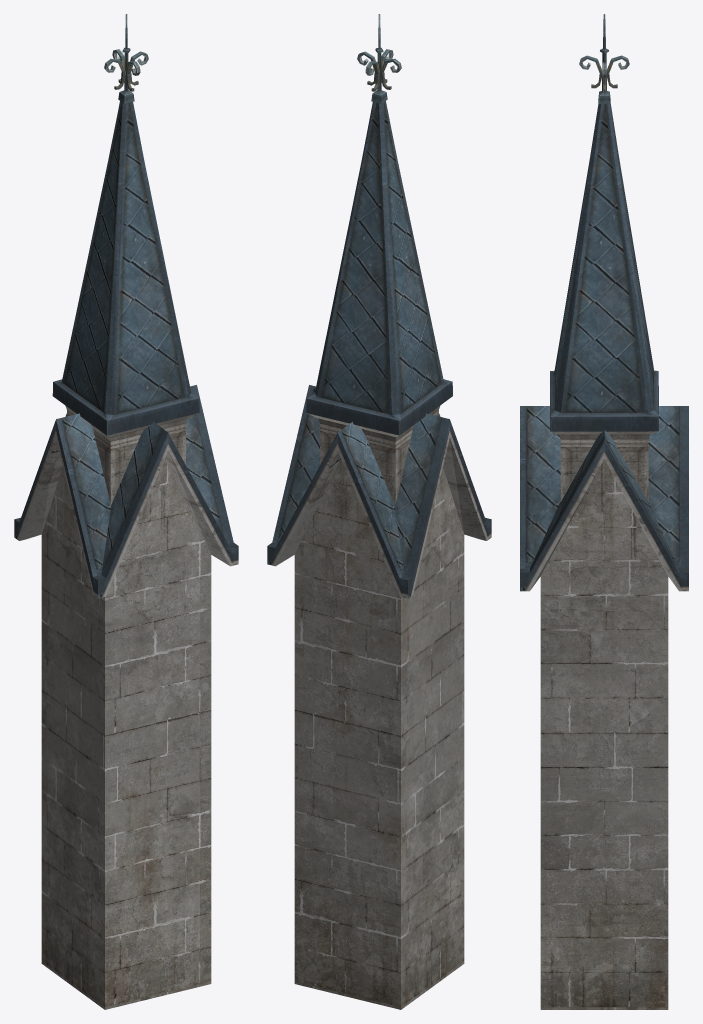
Rendered from bg_lut_lucastle_churchtower04_sm_ksh.FBX.
The picture shows the model from 3 angles, left to right: view 1: azimuth 30°, elevation 25°; view 2: azimuth 150°, elevation 25°; view 3: azimuth 270°, elevation 25°; orthographic projection.
Parts seen in each view (by area): view 1: bg_lut_lucastle_churchtower04_sm_ksh; view 2: bg_lut_lucastle_churchtower04_sm_ksh; view 3: bg_lut_lucastle_churchtower04_sm_ksh.
Boxes of the visible parts, x1,y1,x2,y2 form: bg_lut_lucastle_churchtower04_sm_ksh: (14, 14, 238, 1009); bg_lut_lucastle_churchtower04_sm_ksh: (267, 14, 491, 1009); bg_lut_lucastle_churchtower04_sm_ksh: (520, 14, 688, 1009).
Size of the model in its own units: 116 by 752 by 119.
